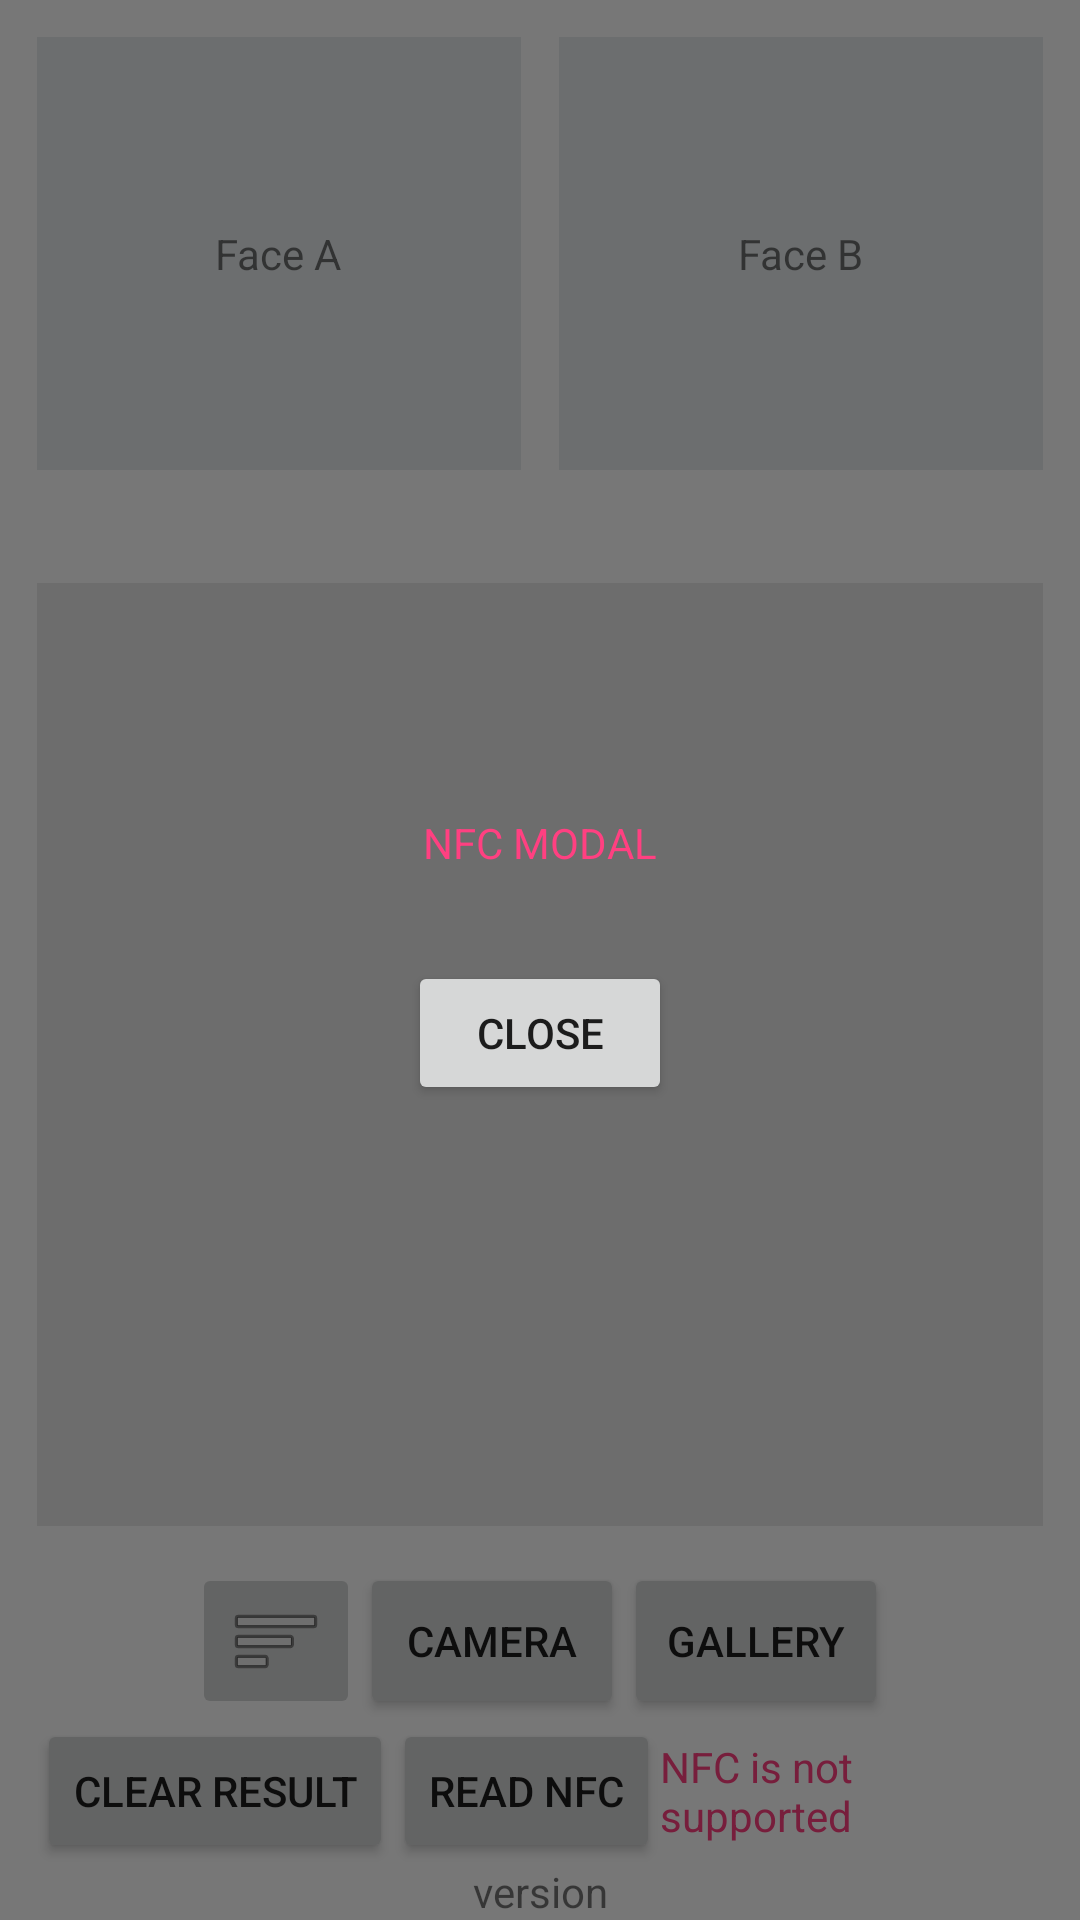

Icons on this 1080px x 1920px Android screen, each with its box as (x1, y1, x2, y2):
sort by size: (204, 1581, 348, 1701)
